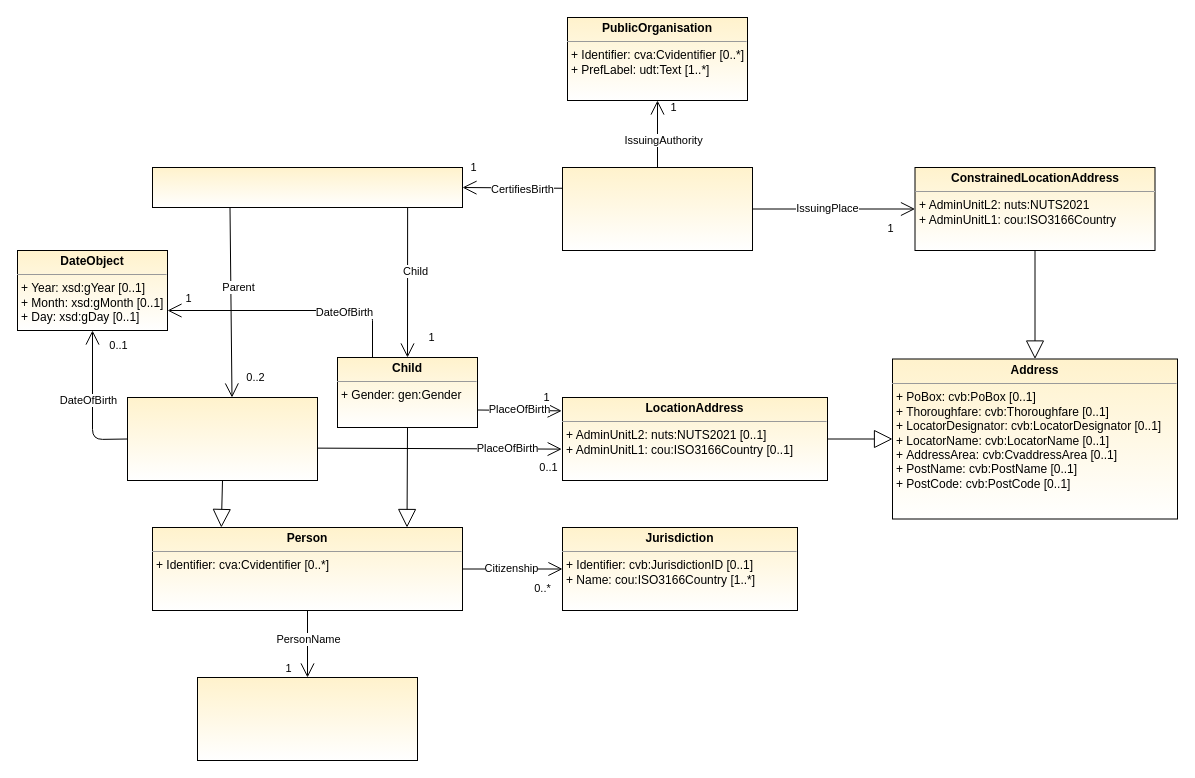
This 1195x778 diagram has some shape labels left out. The centre of each missing label's shape, as x and y in pixels:
"Birth" goes at point 307,187.
"BirthEvidence + Identifier: cva:Cvidentifier [0..1] + IssueDate: udt:Date" goes at point 657,208.
"Name + FamilyName: cbc:FamilyName [0..*] + GivenName: cvb:GivenName [0..*]" goes at point 307,718.
"Parent + Gender: gen:Gender [0..1]" goes at point 222,438.
